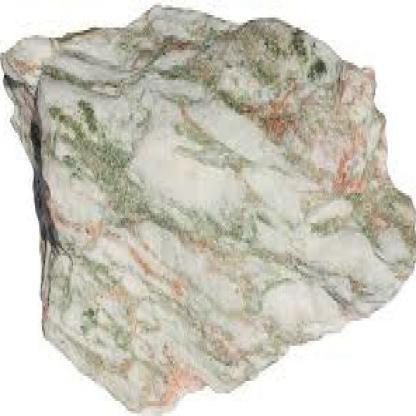Metamorphic_Marble: (1, 10, 416, 414)
